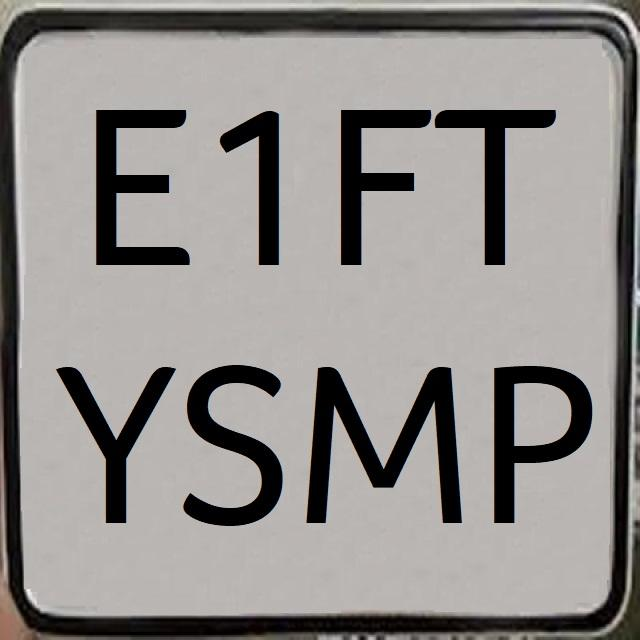E: (87, 80, 199, 285)
F: (216, 95, 297, 285)
M: (308, 349, 470, 529)
P: (489, 353, 599, 536)
S: (184, 342, 288, 530)
T: (439, 80, 552, 284)
Y: (50, 354, 170, 541)
